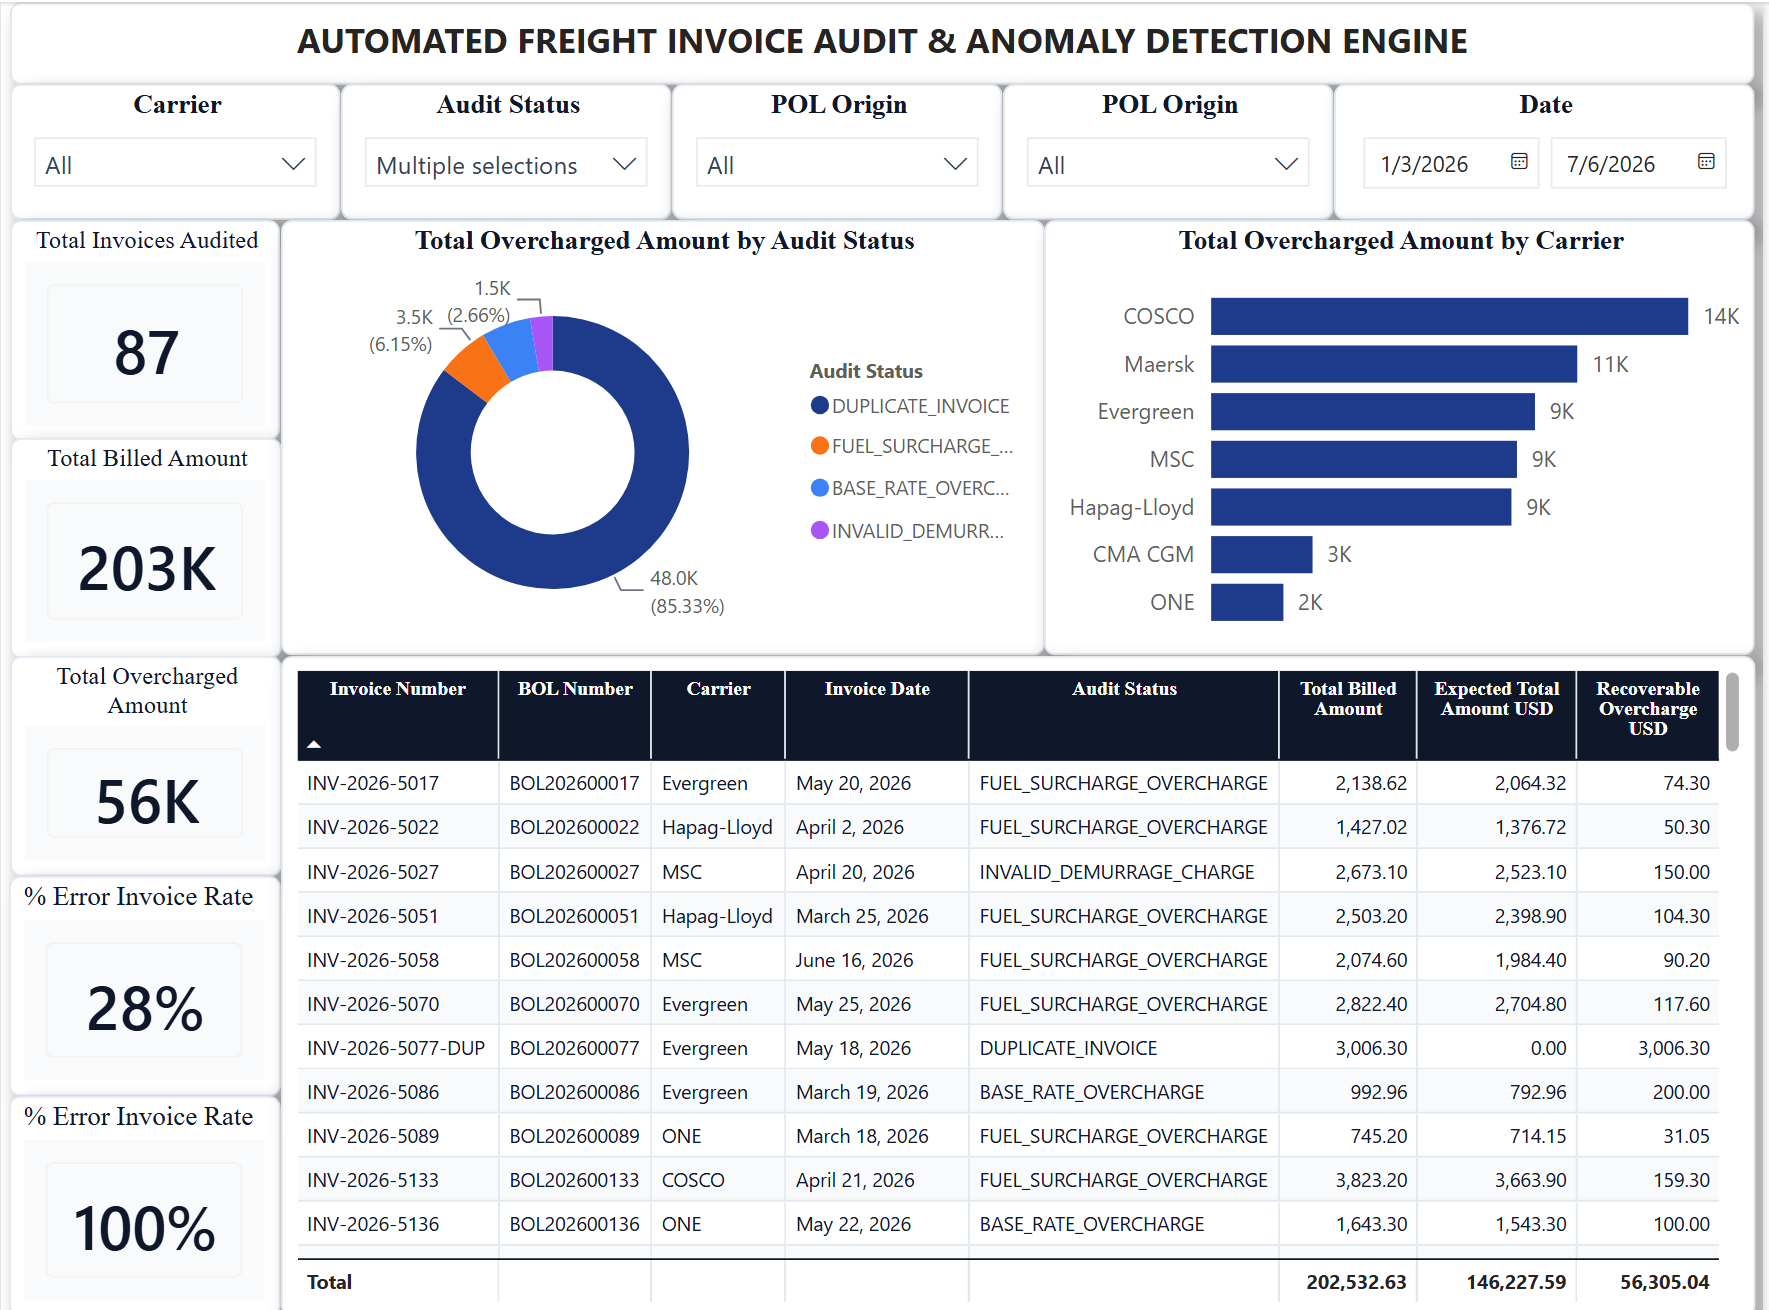

What the dashboard file says about the page in this screenshot:
{"tool":"powerbi","page":{"name":"Page 1","canvas":[960,720],"ordinal":0},"visuals":[{"type":"textbox","box":[4.9,0,950.1,44.9],"z":0},{"type":"slicer","title":"Carrier","fields":{"Values":["vw_freight_invoice_audit.Carrier"]},"box":[4.9,44.8,180.3,74],"z":1000},{"type":"slicer","title":"Audit Status","fields":{"Values":["vw_freight_invoice_audit.Audit_Status"]},"box":[185.2,44.8,180.3,74],"z":2000},{"type":"slicer","title":"POL Origin","fields":{"Values":["vw_freight_invoice_audit.POL_Origin"]},"box":[365.5,44.8,180.3,74],"z":3000},{"type":"slicer","title":"POL Origin","fields":{"Values":["vw_freight_invoice_audit.POL_Origin"]},"box":[545.8,44.8,180.3,74],"z":4000},{"type":"slicer","title":"Date","fields":{"Values":["Dim_Date.Date"]},"box":[726,44.8,229,74],"z":5000},{"type":"cardVisual","title":"Total Invoices Audited","fields":{"Data":["_Measure.Total Invoices Audited"]},"box":[4.9,118.9,147.4,120],"z":6000},{"type":"cardVisual","title":"Total Billed Amount","fields":{"Data":["_Measure.Total Billed Amount"]},"box":[4.9,237.5,147.6,119.8],"z":7000},{"type":"cardVisual","title":"Total Overcharged Amount","fields":{"Data":["_Measure.Total Overcharged Amount"]},"box":[4.9,356.2,147.6,119.8],"z":8000},{"type":"cardVisual","title":"% Error Invoice Rate","fields":{"Data":["_Measure.% Overcharge Rate"]},"box":[4.4,476,147.6,119.8],"z":9000},{"type":"donutChart","title":"Total Overcharged Amount by Audit Status","fields":{"Category":["vw_freight_invoice_audit.Audit_Status"],"Y":["_Measure.Total Overcharged Amount"]},"box":[152.3,118.8,415.9,237.3],"z":10000},{"type":"cardVisual","title":"% Error Invoice Rate","fields":{"Data":["_Measure.% Error Invoice Rate"]},"box":[4.4,595.8,147.6,119.8],"z":10500},{"type":"clusteredBarChart","fields":{"Category":["vw_freight_invoice_audit.Carrier"],"Y":["_Measure.Total Overcharged Amount"]},"box":[568.2,118.8,386.8,237.3],"z":11000},{"type":"tableEx","fields":{"Values":["vw_freight_invoice_audit.Invoice_Number","vw_freight_invoice_audit.BOL_Number","vw_freight_invoice_audit.Carrier","vw_freight_invoice_audit.Invoice_Date.Variation.Date Hierarchy.Year","vw_freight_invoice_audit.Audit_Status","_Measure.Total Billed Amount","Sum(vw_freight_invoice_audit.Expected_Total_Amount_USD)","Sum(vw_freight_invoice_audit.Recoverable_Overcharge_USD)"]},"box":[152.3,356,802.7,360],"z":12000}]}

Visuals, with their boxes in screenshot pixels (x1, y1, x2, y2), scaled from the page's 960x720 canvas onto the 1769x1310 screenshot:
textbox: <region>9, 0, 1760, 82</region>
"Carrier" slicer: <region>9, 82, 341, 216</region>
"Audit Status" slicer: <region>341, 82, 674, 216</region>
"POL Origin" slicer: <region>674, 82, 1006, 216</region>
"POL Origin" slicer: <region>1006, 82, 1338, 216</region>
"Date" slicer: <region>1338, 82, 1760, 216</region>
"Total Invoices Audited" cardVisual: <region>9, 216, 281, 435</region>
"Total Billed Amount" cardVisual: <region>9, 432, 281, 650</region>
"Total Overcharged Amount" cardVisual: <region>9, 648, 281, 866</region>
"% Error Invoice Rate" cardVisual: <region>8, 866, 280, 1084</region>
"Total Overcharged Amount by Audit Status" donutChart: <region>281, 216, 1047, 648</region>
"% Error Invoice Rate" cardVisual: <region>8, 1084, 280, 1302</region>
clusteredBarChart - vw_freight_invoice_audit.Carrier x _Measure.Total Overcharged Amount: <region>1047, 216, 1760, 648</region>
tableEx - vw_freight_invoice_audit.Invoice_Number x vw_freight_invoice_audit.BOL_Number: <region>281, 648, 1760, 1303</region>
